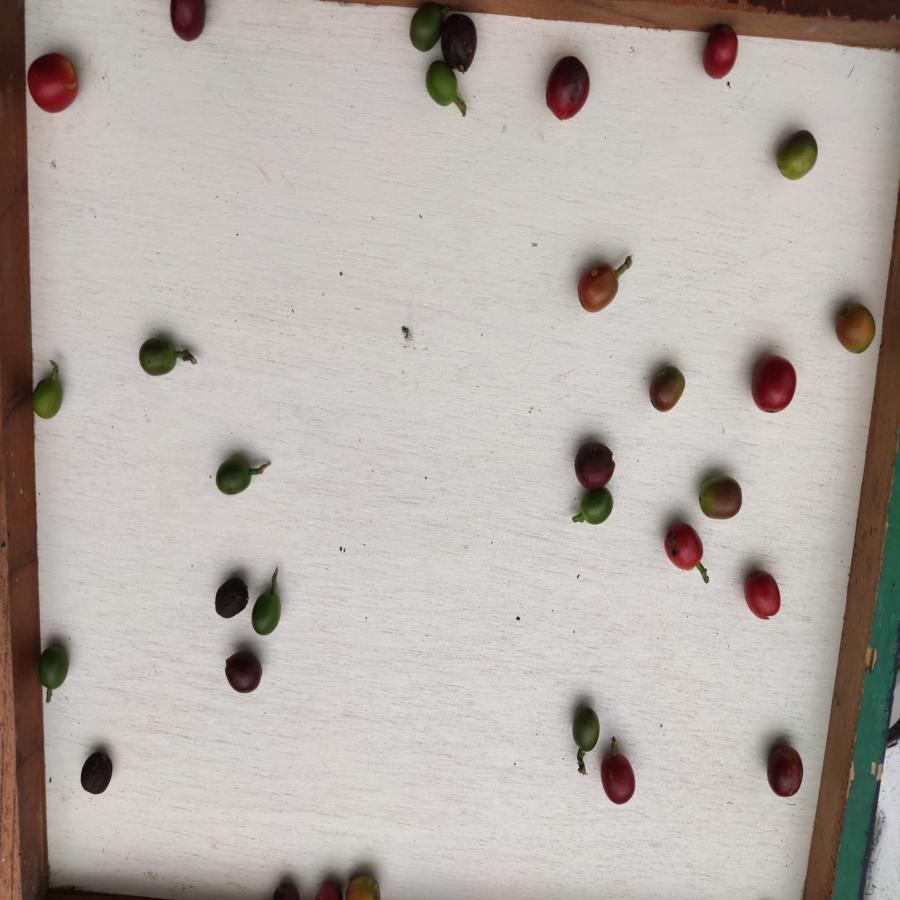Inmaduro: (405, 1, 443, 52), (135, 337, 184, 376), (214, 453, 255, 499), (28, 373, 67, 421), (40, 639, 73, 690), (251, 588, 285, 637), (426, 63, 460, 110), (571, 704, 603, 751), (578, 489, 616, 525)
Maduro: (26, 48, 81, 113), (750, 355, 799, 416), (663, 520, 706, 573), (741, 569, 785, 620), (703, 24, 743, 80)
Pinton: (835, 300, 880, 353), (577, 266, 622, 317), (646, 366, 688, 417), (776, 129, 817, 181), (699, 476, 746, 519), (343, 870, 385, 900)
Sobremaduro: (764, 744, 805, 800), (598, 748, 637, 806), (570, 440, 616, 489), (222, 652, 267, 698), (441, 22, 479, 73), (210, 576, 250, 621), (169, 1, 210, 44), (80, 751, 113, 796)
